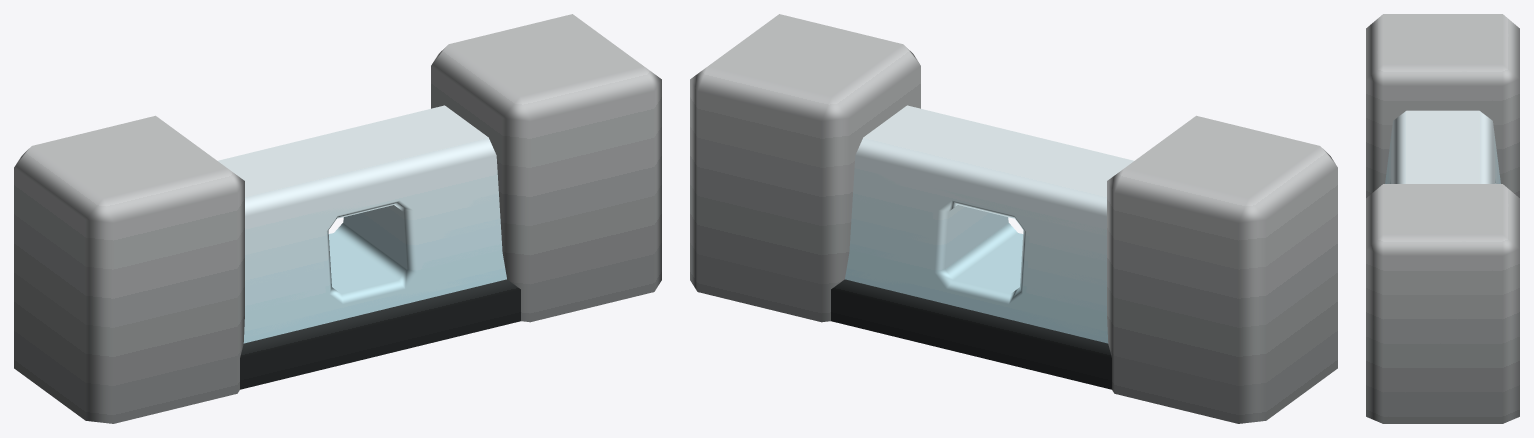
Rendered from Fence_Prop_White.fbx.
The picture shows the model from 3 angles, left to right: view 1: azimuth 30°, elevation 25°; view 2: azimuth 150°, elevation 25°; view 3: azimuth 270°, elevation 25°; orthographic projection. The views are drawn at different scales.
Parts seen in each view (by area): view 1: Fence_Prop, FencePost_Prop, FenceSeg_Prop; view 2: Fence_Prop, FenceSeg_Prop, FencePost_Prop; view 3: FencePost_Prop, Fence_Prop, FenceSeg_Prop.
Part boxes in pixels (x1,y1,x2,y2): Fence_Prop: [14, 115, 506, 423]; FencePost_Prop: [431, 14, 661, 322]; FenceSeg_Prop: [218, 105, 520, 389]; Fence_Prop: [845, 115, 1337, 423]; FenceSeg_Prop: [831, 105, 1133, 389]; FencePost_Prop: [690, 14, 920, 322]; FencePost_Prop: [1366, 184, 1519, 423]; Fence_Prop: [1366, 14, 1519, 197]; FenceSeg_Prop: [1385, 110, 1500, 183].
Size of what is drawn, in the model's own units: 138 by 50.01 by 38.22.
